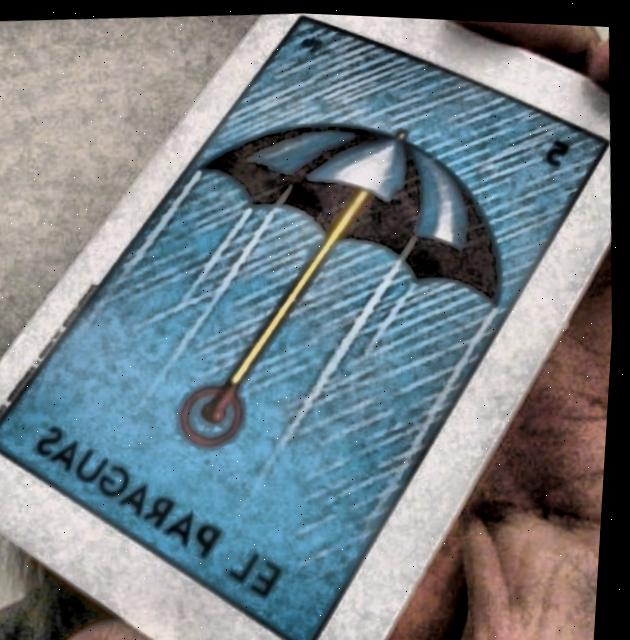El Paraguas: (0, 13, 606, 640)
